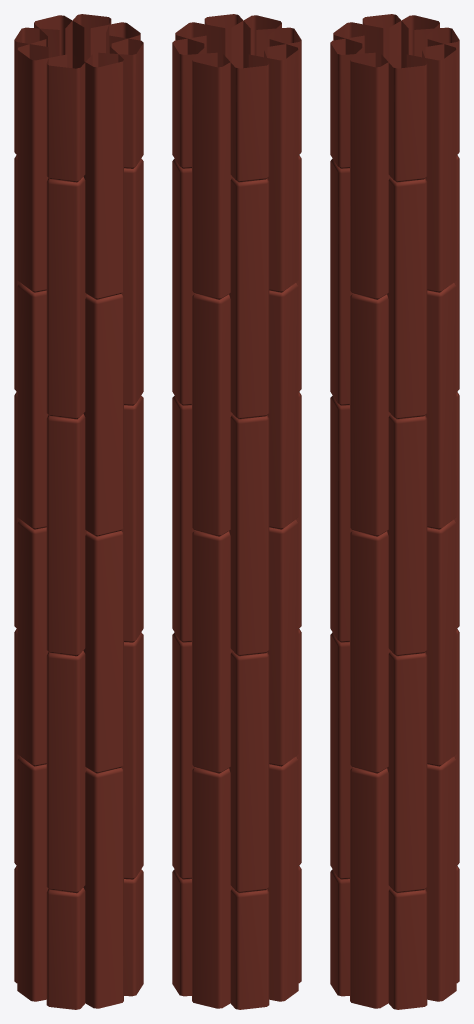
Rendered from pillar_007.fbx.
The picture shows the model from 3 angles, left to right: view 1: azimuth 30°, elevation 25°; view 2: azimuth 150°, elevation 25°; view 3: azimuth 330°, elevation 25°; orthographic projection.
Parts seen in each view (by area): view 1: pillar_007; view 2: pillar_007; view 3: pillar_007.
Part boxes in pixels (<box>): pillar_007: <box>14,14,143,1009</box>; pillar_007: <box>172,14,301,1009</box>; pillar_007: <box>330,14,459,1009</box>.
Bounding box in the file's own units: 599 × 599 × 4918.
